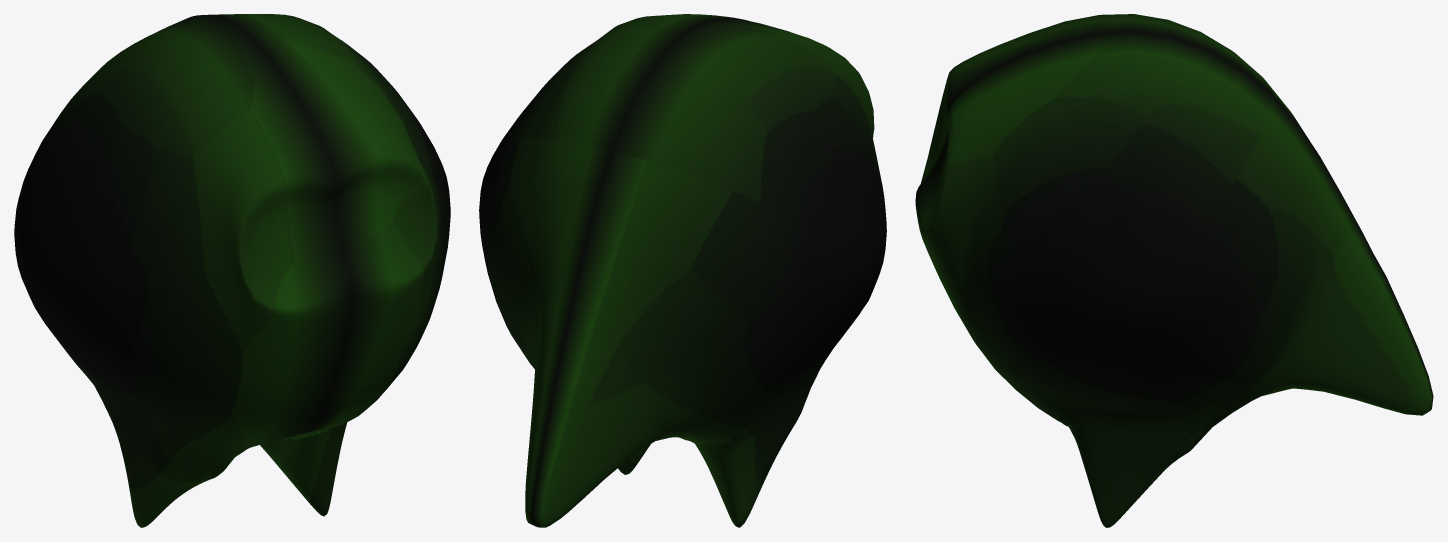
File: Dino_1.obj
3 renders of one model, left to right at view 1: azimuth 30°, elevation 25°; view 2: azimuth 150°, elevation 25°; view 3: azimuth 270°, elevation 25°, orthographic. The views are drawn at different scales.
Parts seen in each view (by area): view 1: Tally; view 2: Tally; view 3: Tally.
Part boxes in pixels (x1,y1,x2,y2): Tally: (14, 14, 450, 527); Tally: (479, 14, 886, 527); Tally: (915, 14, 1433, 527).
Bounding box in the file's own units: 9.52 × 11.32 × 11.48.
1 material, 1 textured.
